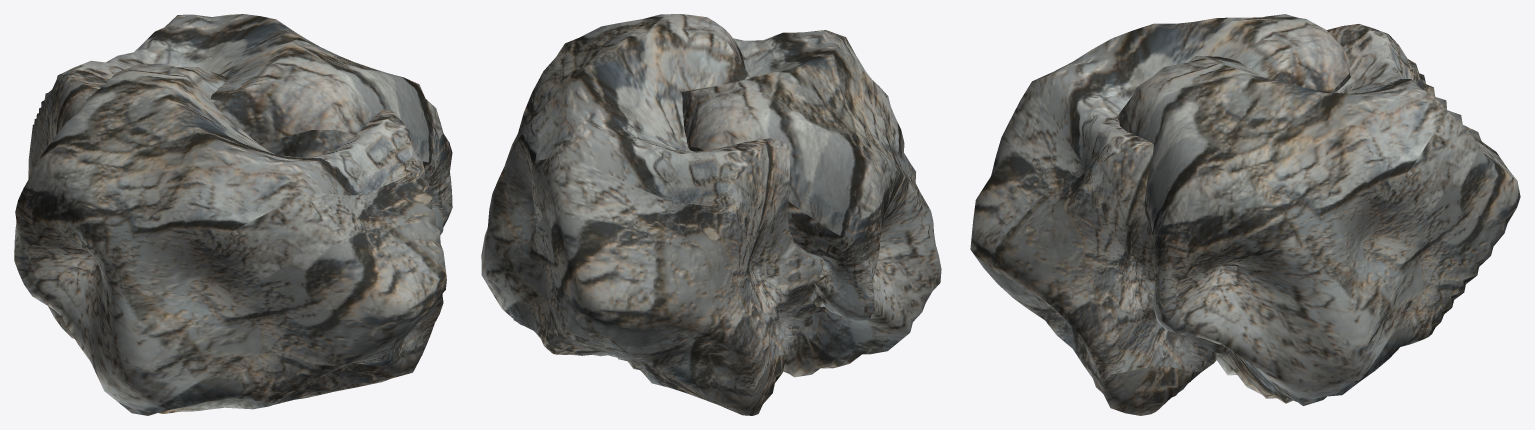
The model's file is pedra.fbx.
3 renders of one model, left to right at view 1: azimuth 30°, elevation 25°; view 2: azimuth 150°, elevation 25°; view 3: azimuth 270°, elevation 25°, orthographic. The views are drawn at different scales.
Visible parts, largest first — view 1: pedra.001; view 2: pedra.001; view 3: pedra.001.
Part boxes in pixels (x1,y1,x2,y2): pedra.001: [14, 14, 452, 415]; pedra.001: [481, 14, 941, 415]; pedra.001: [970, 14, 1520, 415].
Size of the model in its own units: 282 by 232 by 344.
